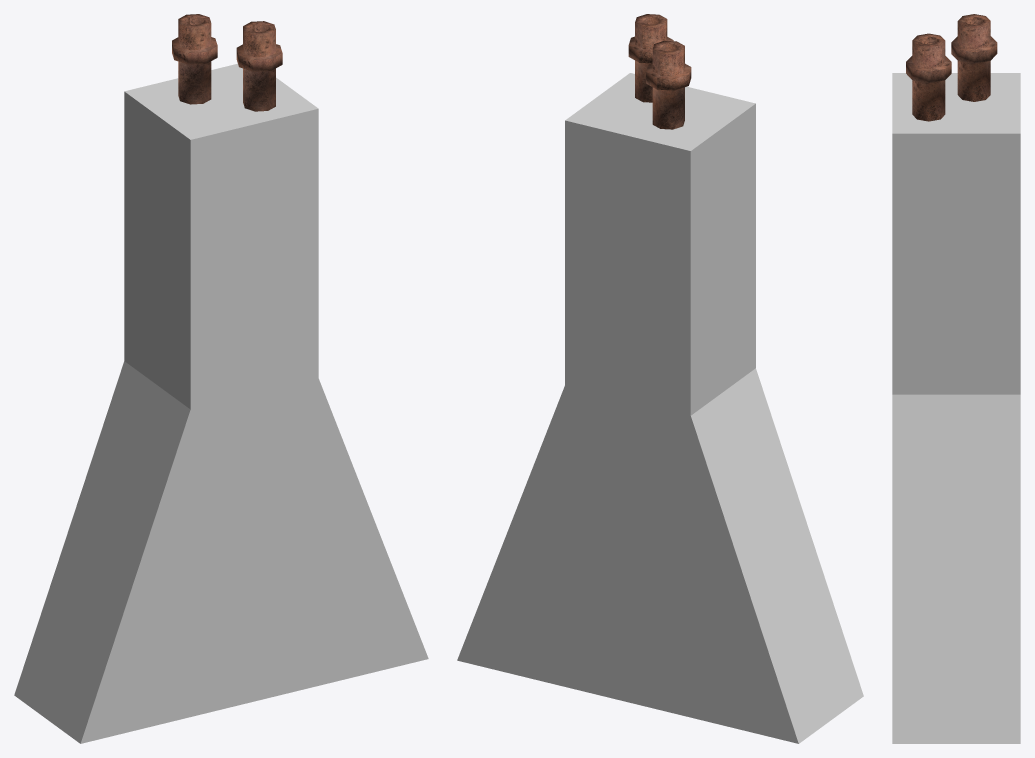
File: ChimneyTop.fbx
3 renders of one model, left to right at view 1: azimuth 30°, elevation 25°; view 2: azimuth 150°, elevation 25°; view 3: azimuth 270°, elevation 25°, orthographic. The views are drawn at different scales.
Parts seen in each view (by area): view 1: Chimney Top; view 2: Chimney Top; view 3: Chimney Top.
Part boxes in pixels (x1,y1,x2,y2): Chimney Top: (14, 14, 428, 743); Chimney Top: (457, 14, 863, 743); Chimney Top: (892, 14, 1020, 743).
Bounding box in the file's own units: 212 × 380 × 69.89.
